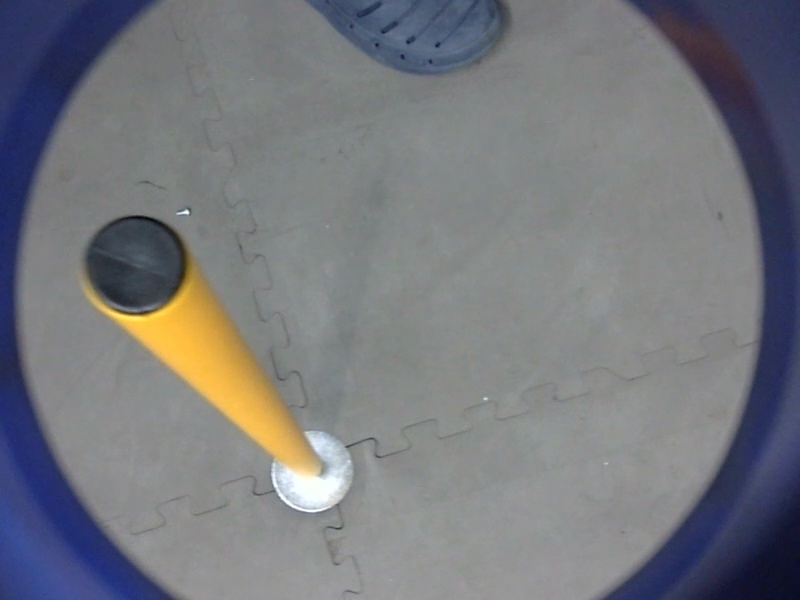tip: (73, 208, 196, 325)
